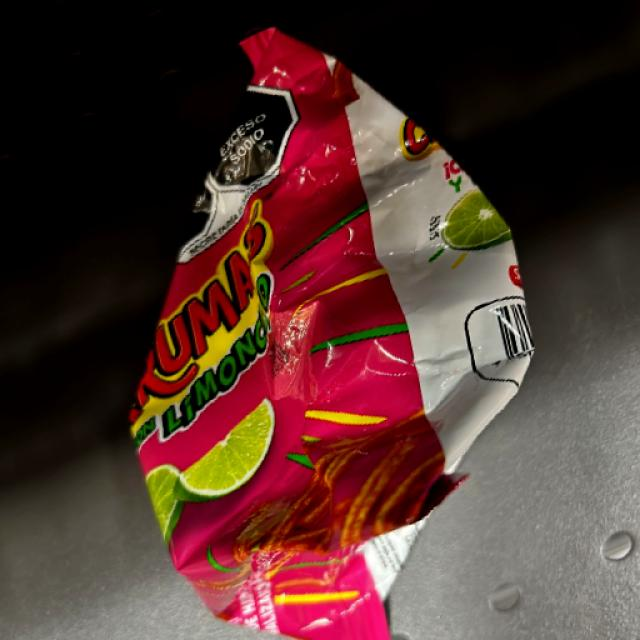churrumais: (179, 105, 453, 607)
